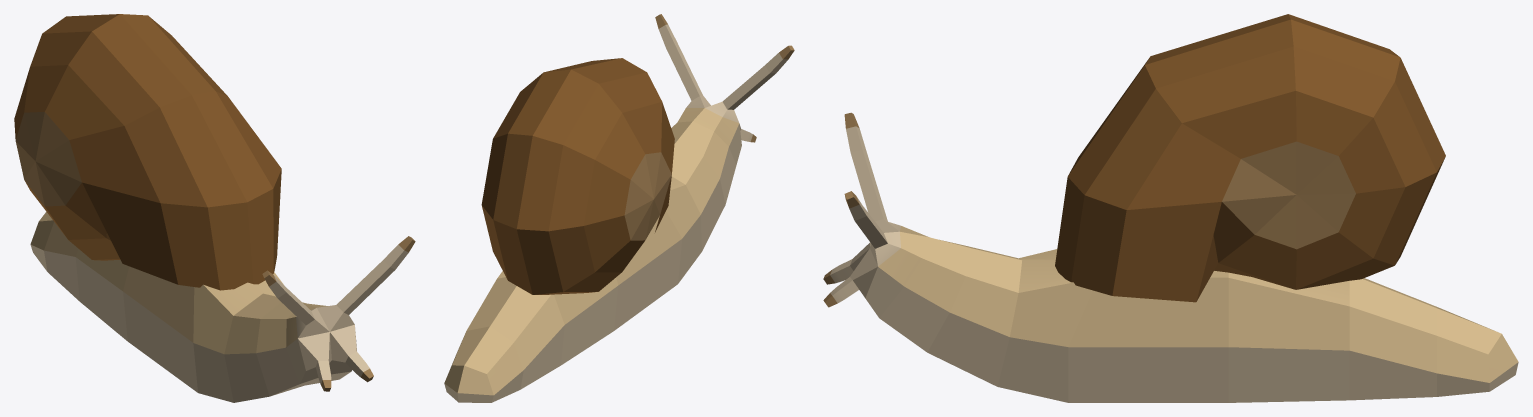
The model's file is Caracol.gltf.
3 views of the same model, side by side, from view 1: azimuth 30°, elevation 25°; view 2: azimuth 150°, elevation 25°; view 3: azimuth 270°, elevation 25° (orthographic). The views are drawn at different scales.
Parts seen in each view (by area): view 1: Geo_Snail; view 2: Geo_Snail; view 3: Geo_Snail.
Boxes of the visible parts, box(x1,y1,x2,y2) form: Geo_Snail: box(14, 14, 415, 402); Geo_Snail: box(444, 14, 794, 402); Geo_Snail: box(823, 14, 1518, 402).
Size of the model in its own units: 2.51 by 3.86 by 7.04.
Materials: 1 (1 with a texture image).
